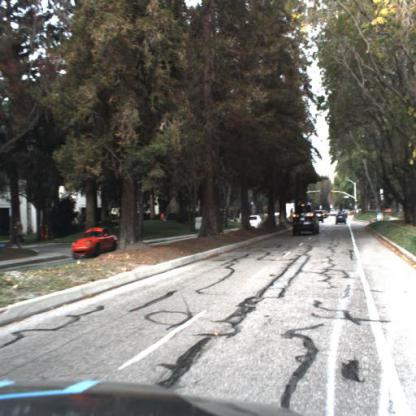car: (72, 226, 118, 264), (292, 201, 321, 242), (246, 212, 267, 233), (335, 208, 349, 226)
pedestrian: (15, 218, 25, 253)
